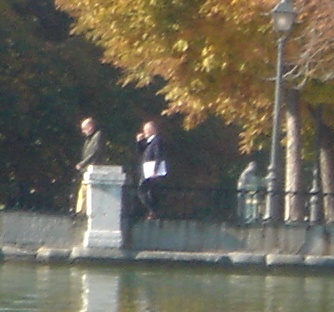person: (133, 119, 173, 221)
